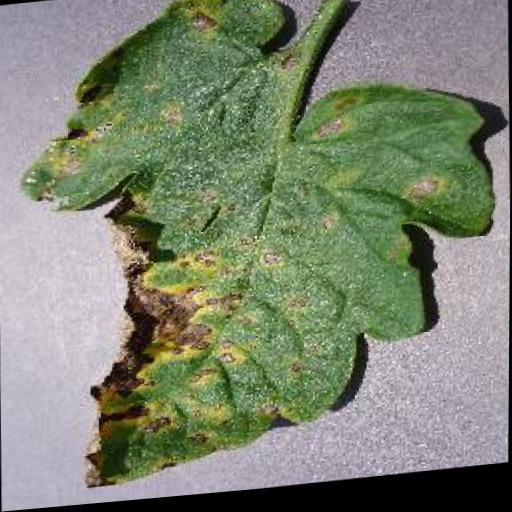Septoria: (15, 0, 501, 495)
